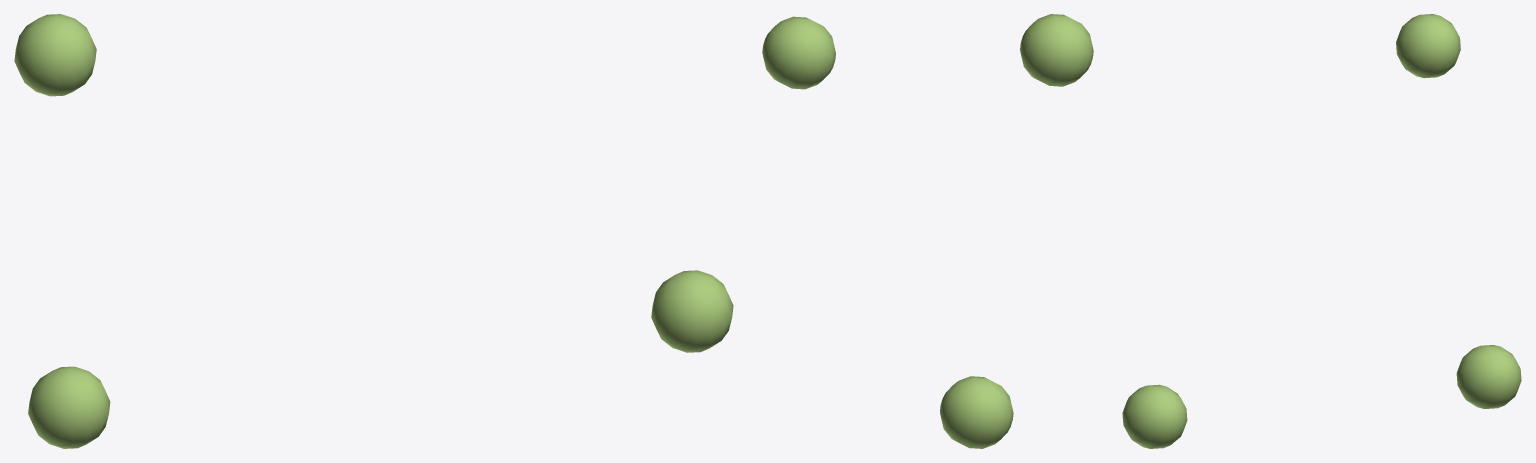
File: mandibular-node-r.glb
The picture shows the model from 3 angles, left to right: view 1: azimuth 30°, elevation 25°; view 2: azimuth 150°, elevation 25°; view 3: azimuth 270°, elevation 25°; orthographic projection. The views are drawn at different scales.
Parts seen in each view (by area): view 1: Mandibular node.r; view 2: Mandibular node.r; view 3: Mandibular node.r.
Part boxes in pixels (x1,y1,x2,y2): Mandibular node.r: [14, 14, 733, 448]; Mandibular node.r: [762, 14, 1093, 448]; Mandibular node.r: [1122, 14, 1521, 448].
Bounding box in the file's own units: 0.0193 × 0.0161 × 0.0158.
